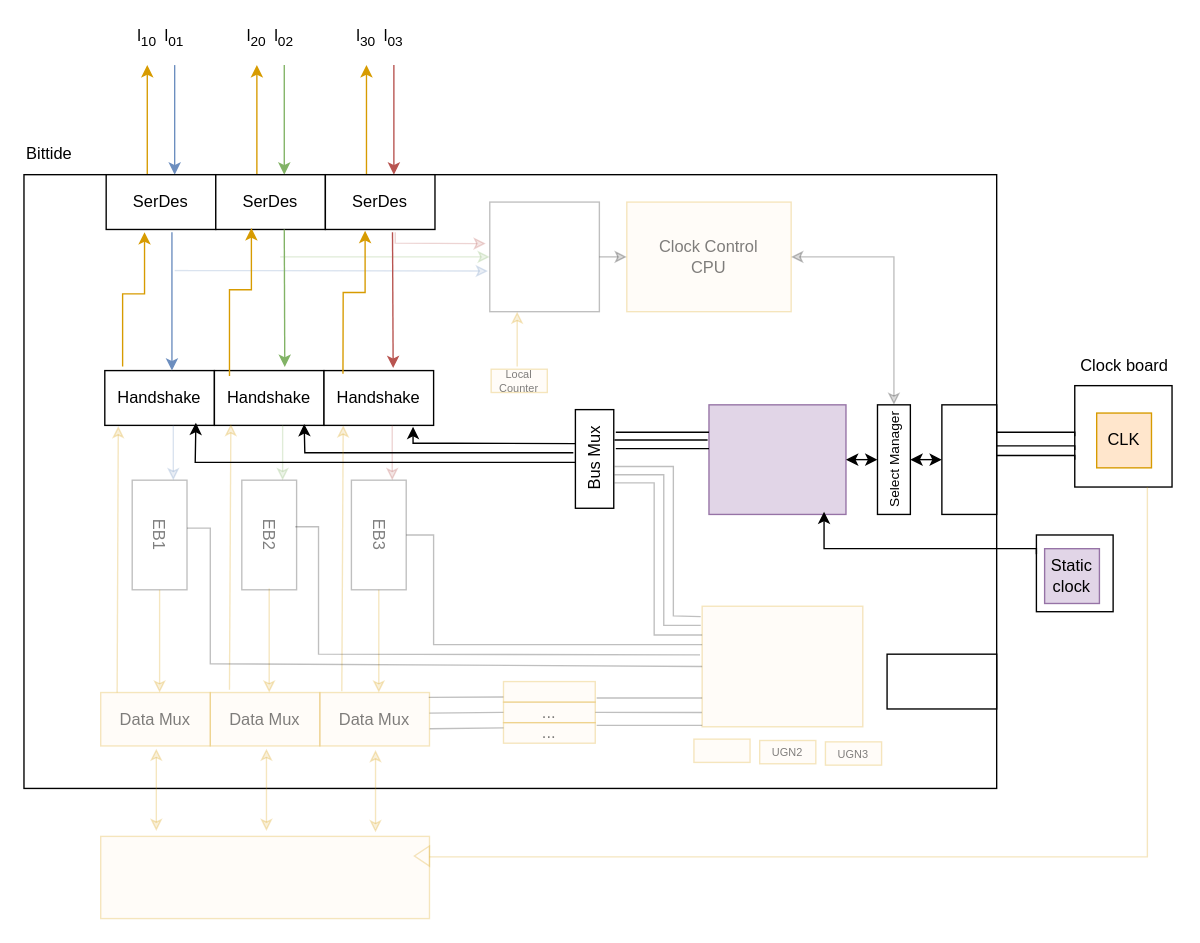
Some shapes in this 1200 by 943 pixel diagram are drawn without their labels. The shapes that lost their labels are listed below. From the top down, each one's box as (x1, y1, x2, y2) in pixels, then its label:
(488, 201, 599, 312): DDCs
(708, 403, 846, 514): Boot CPU
(941, 403, 997, 514): SPI
(701, 605, 863, 727): Management Unit CPU
(886, 653, 997, 709): JTAG (to all CPUs)
(502, 680, 595, 702): RingBuffer (s)
(693, 738, 750, 762): UGN1
(99, 835, 429, 919): Processing Element
